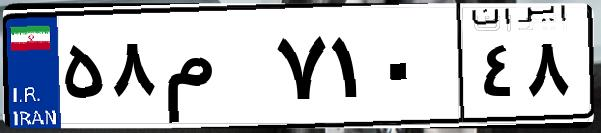0: (385, 28, 445, 110)
1: (330, 28, 385, 110)
4: (475, 38, 525, 113)
5: (57, 26, 110, 100)
7: (270, 28, 330, 110)
8: (525, 38, 570, 115), (110, 28, 158, 98)
م: (158, 20, 270, 120)
